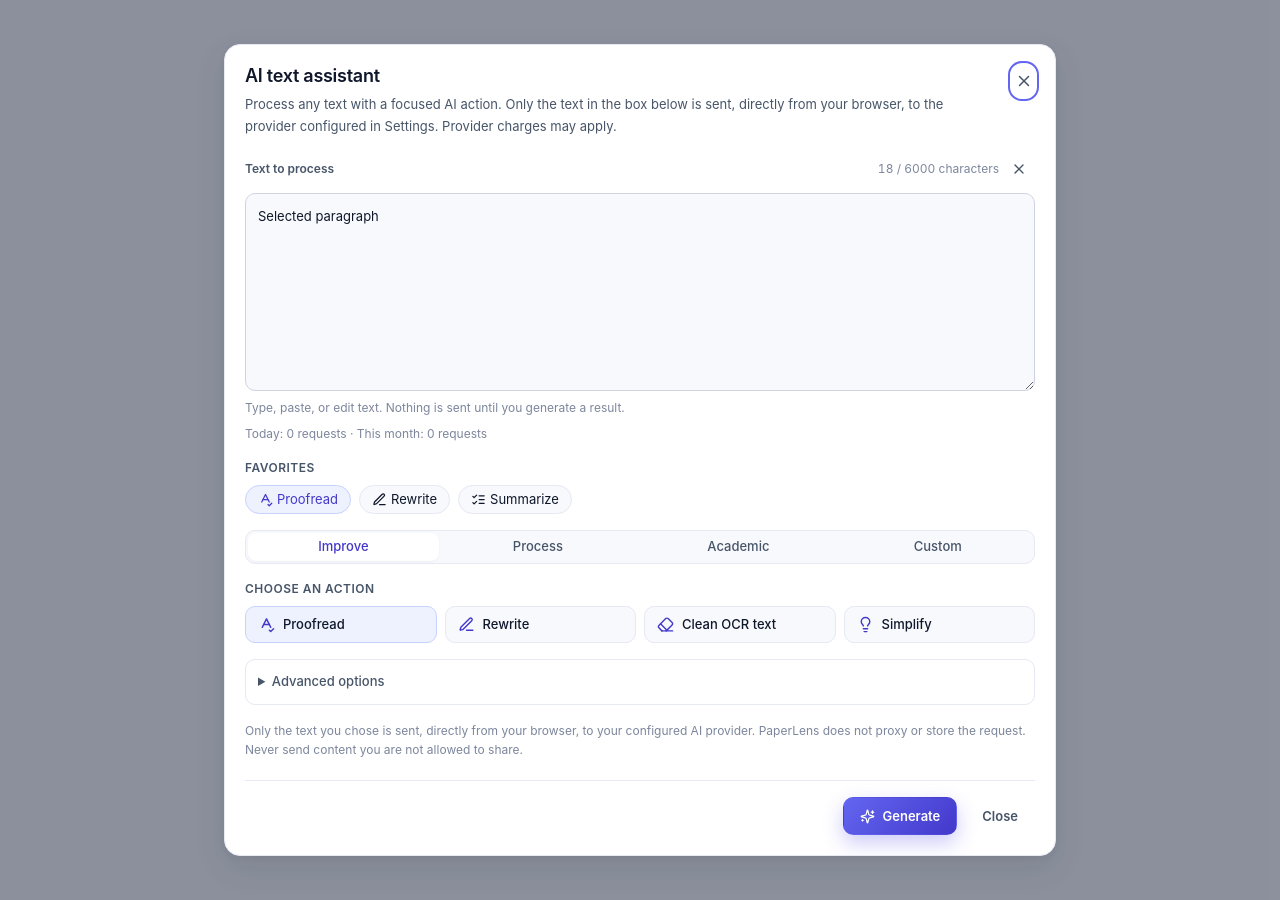
AiAssistantDialog › opens with editable selected text and a live character counter
Expected: the text box labelled "Text to process" holds "Selected paragraph", [245,193,1035,391]
Expected: the text "18 / 6000 characters" is shown, [878,160,999,178]
Click the button "Generate".
click(900, 816)  # box [842,797,957,835]
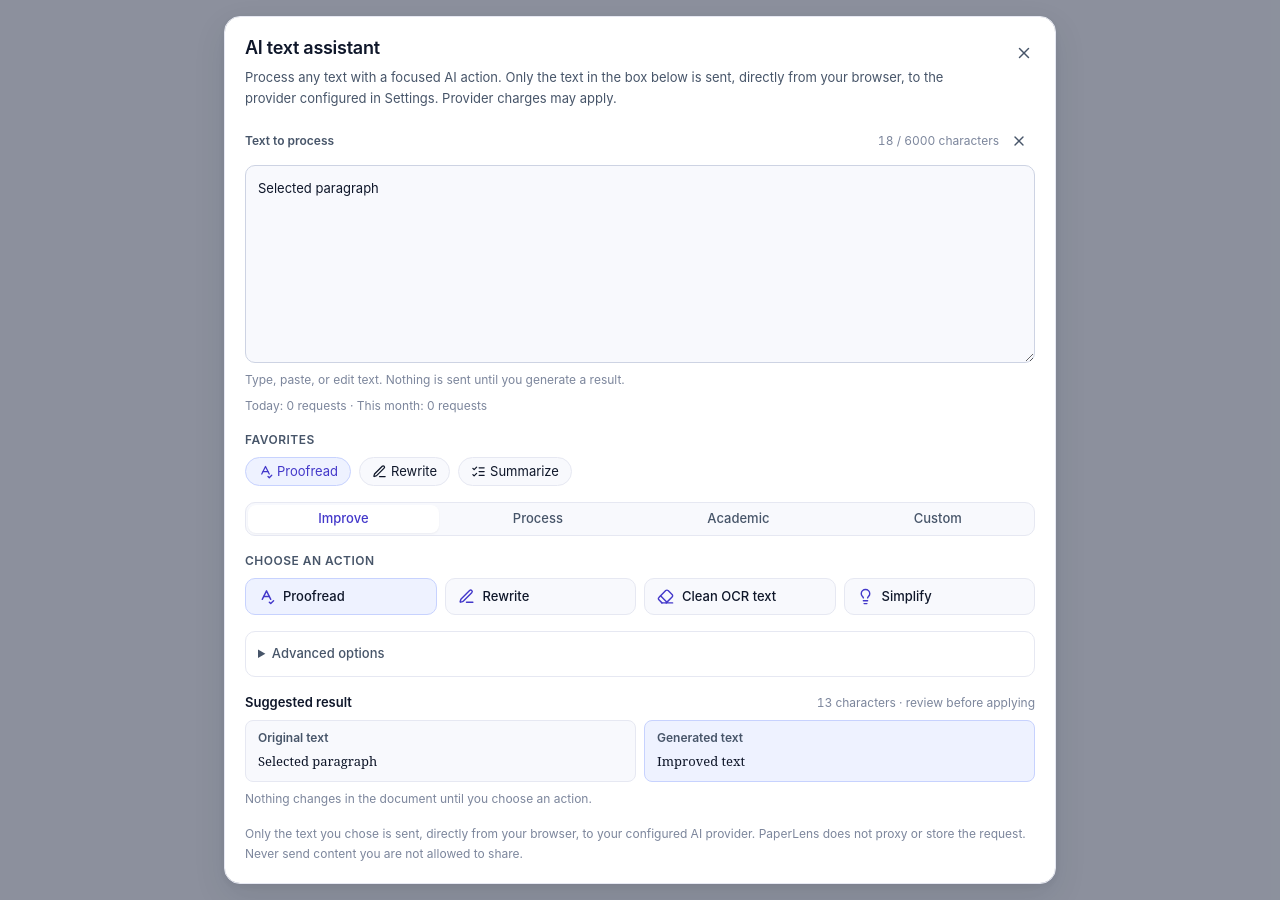
Expected: the text "Improved text" is shown, [657,752,745,770]
